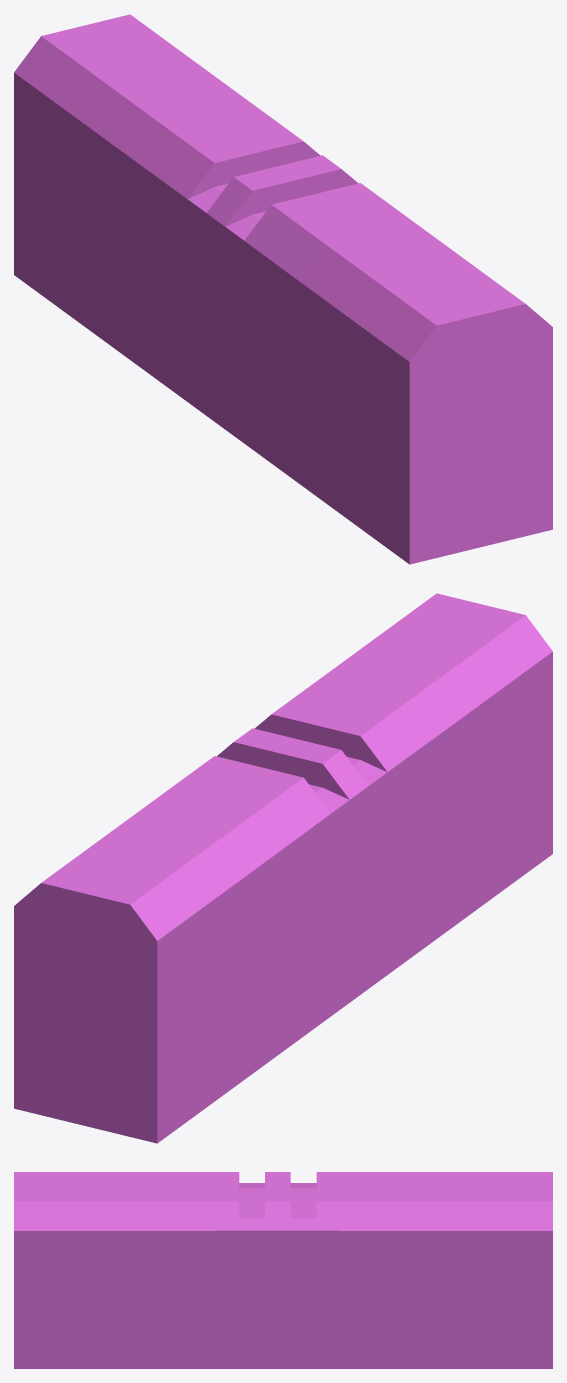
The model's file is Body_Tediore.glb.
The picture shows the model from 3 angles, top to bottom: view 1: azimuth 30°, elevation 25°; view 2: azimuth 150°, elevation 25°; view 3: azimuth 270°, elevation 25°; orthographic projection. The views are drawn at different scales.
Visible parts, largest first — view 1: Body.Tediore; view 2: Body.Tediore; view 3: Body.Tediore.
Part boxes in pixels (x1,y1,x2,y2): Body.Tediore: (14, 14, 552, 564); Body.Tediore: (14, 593, 552, 1143); Body.Tediore: (14, 1172, 552, 1368).
Size of the model in its own units: 0.1842 by 0.2852 by 0.8805.
